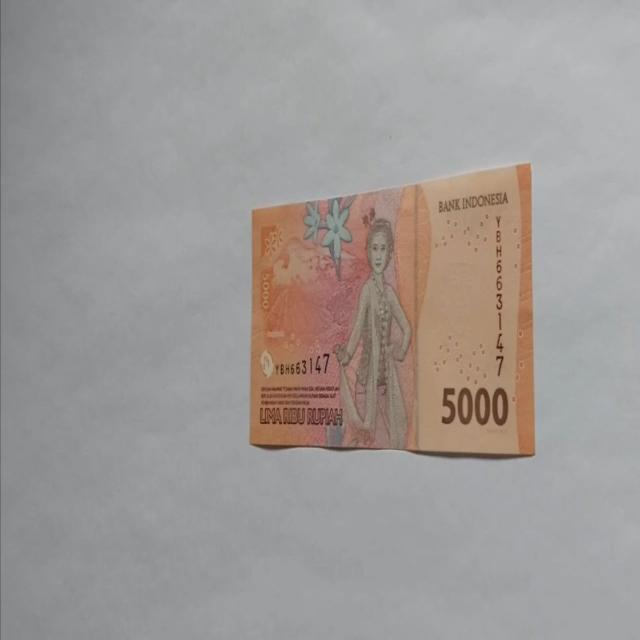lima ribu rupiah: (248, 160, 534, 457), (332, 217, 412, 449)
